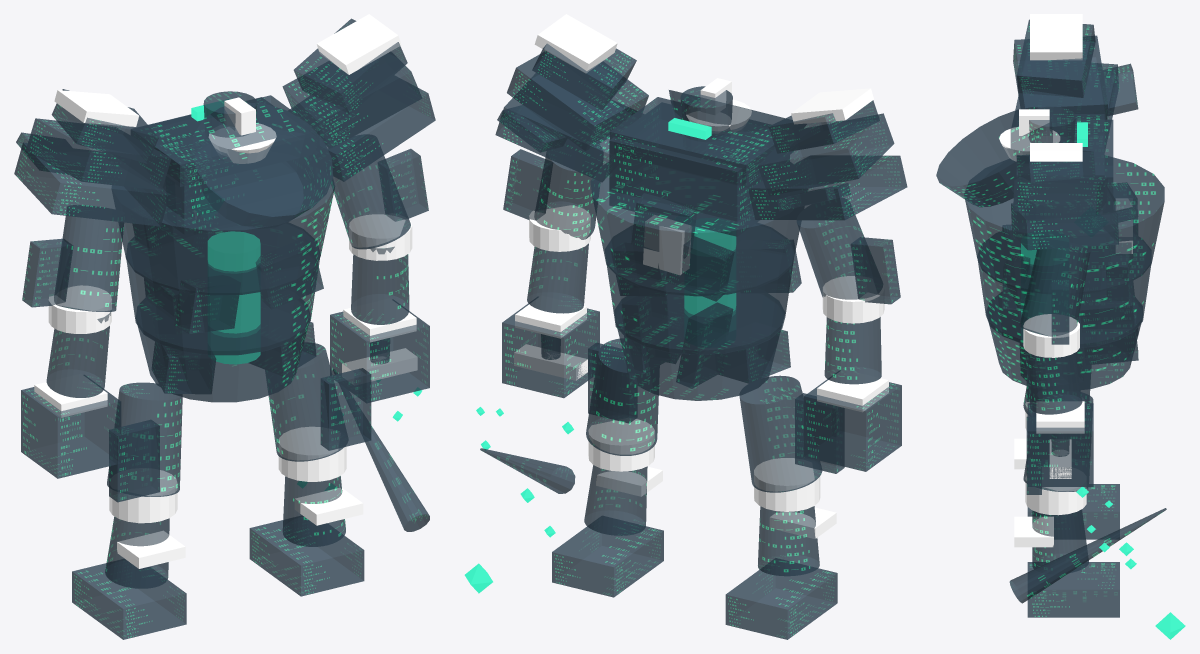
Rendered from glace.glb.
3 renders of one model, left to right at view 1: azimuth 30°, elevation 25°; view 2: azimuth 150°, elevation 25°; view 3: azimuth 270°, elevation 25°, orthographic. The views are drawn at different scales.
Parts seen in each view (by area): view 1: guerrier; view 2: guerrier; view 3: guerrier.
Boxes of the visible parts, bbox=[...] form: guerrier: bbox=[14, 14, 435, 639]; guerrier: bbox=[464, 14, 907, 639]; guerrier: bbox=[936, 14, 1185, 639].
Bounding box in the file's own units: 1.95 × 2.43 × 1.14.
